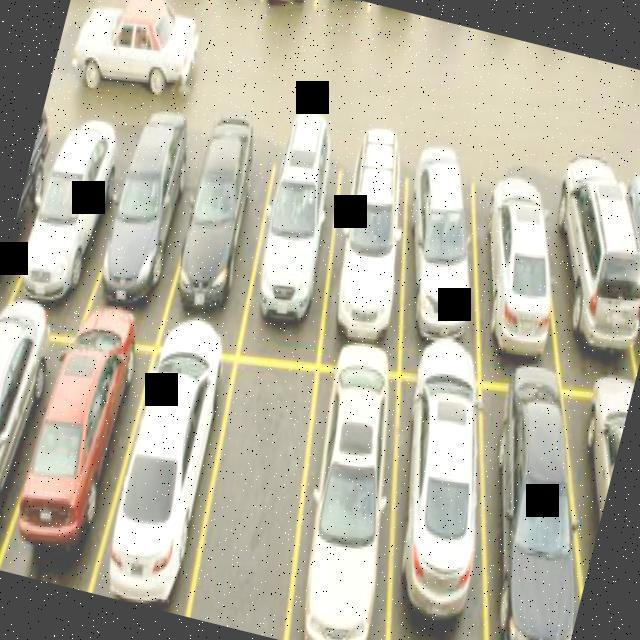car: (329, 351, 561, 640), (409, 356, 631, 640), (0, 293, 200, 603), (250, 354, 455, 640), (77, 316, 263, 618), (440, 137, 604, 380), (218, 108, 377, 352), (292, 120, 449, 364), (500, 361, 636, 640), (364, 133, 518, 374), (71, 100, 233, 326), (148, 106, 302, 336), (514, 140, 640, 389), (6, 103, 142, 320), (583, 122, 640, 390)
free: (166, 340, 357, 640)
